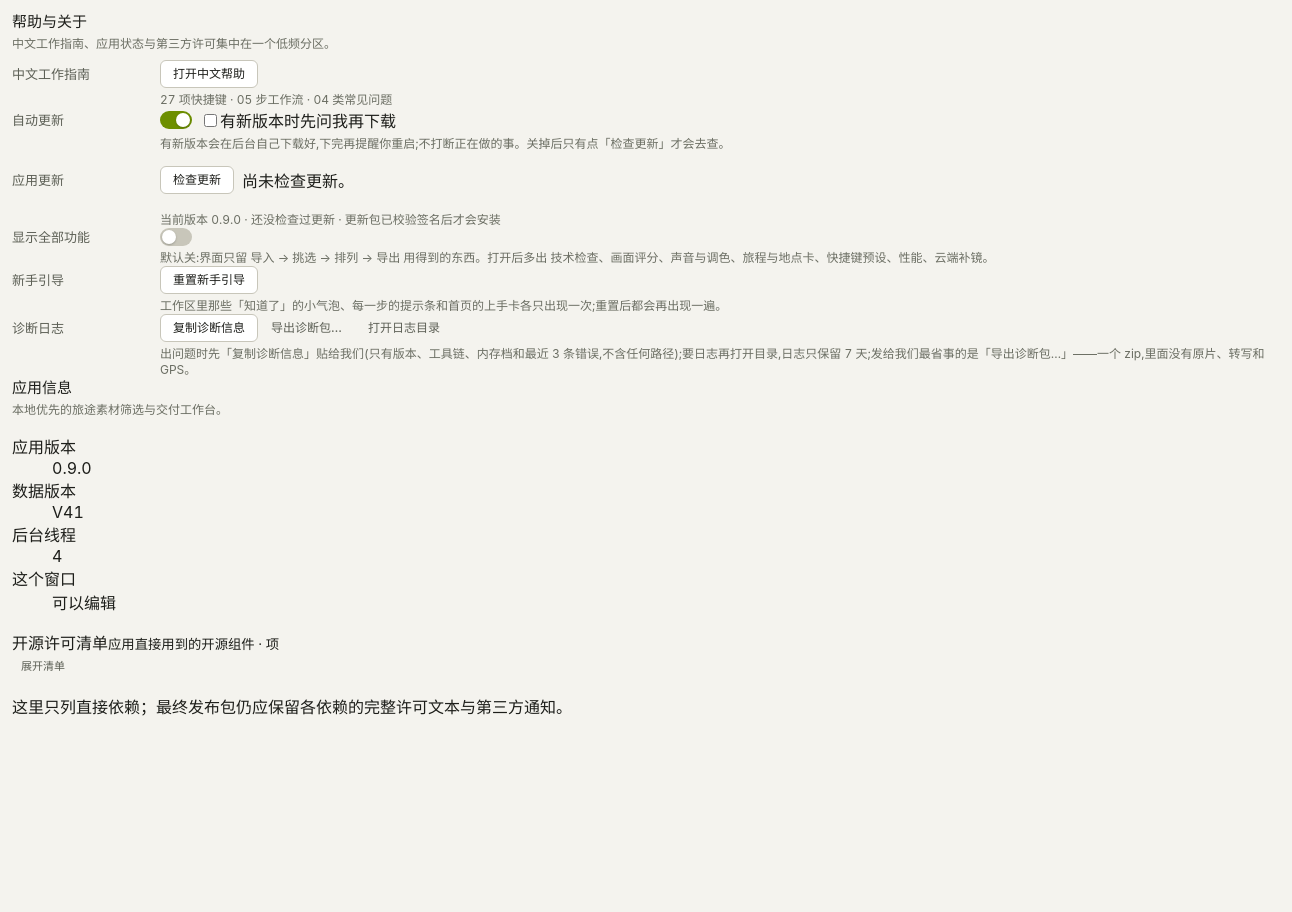
M-04 导出诊断包 › 失败时把「现在怎么办」原样摆出来
What coordinates should you click on to do the following:
click the button "导出诊断包…"
I would click on:
 (306, 328)
Its box is [258,314,355,342].
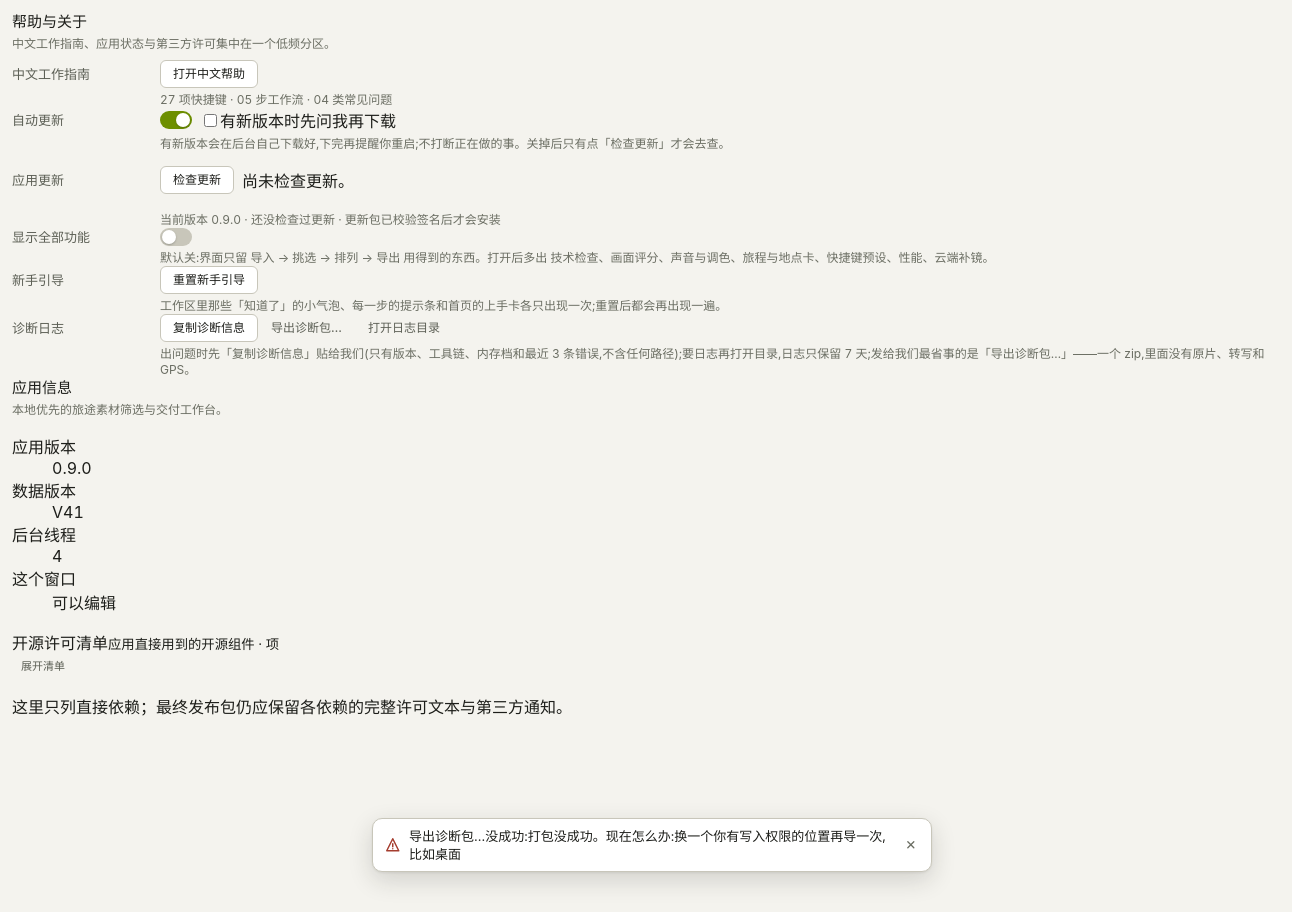
Expected: the message shows "现在怎么办", [409,828,886,862]
